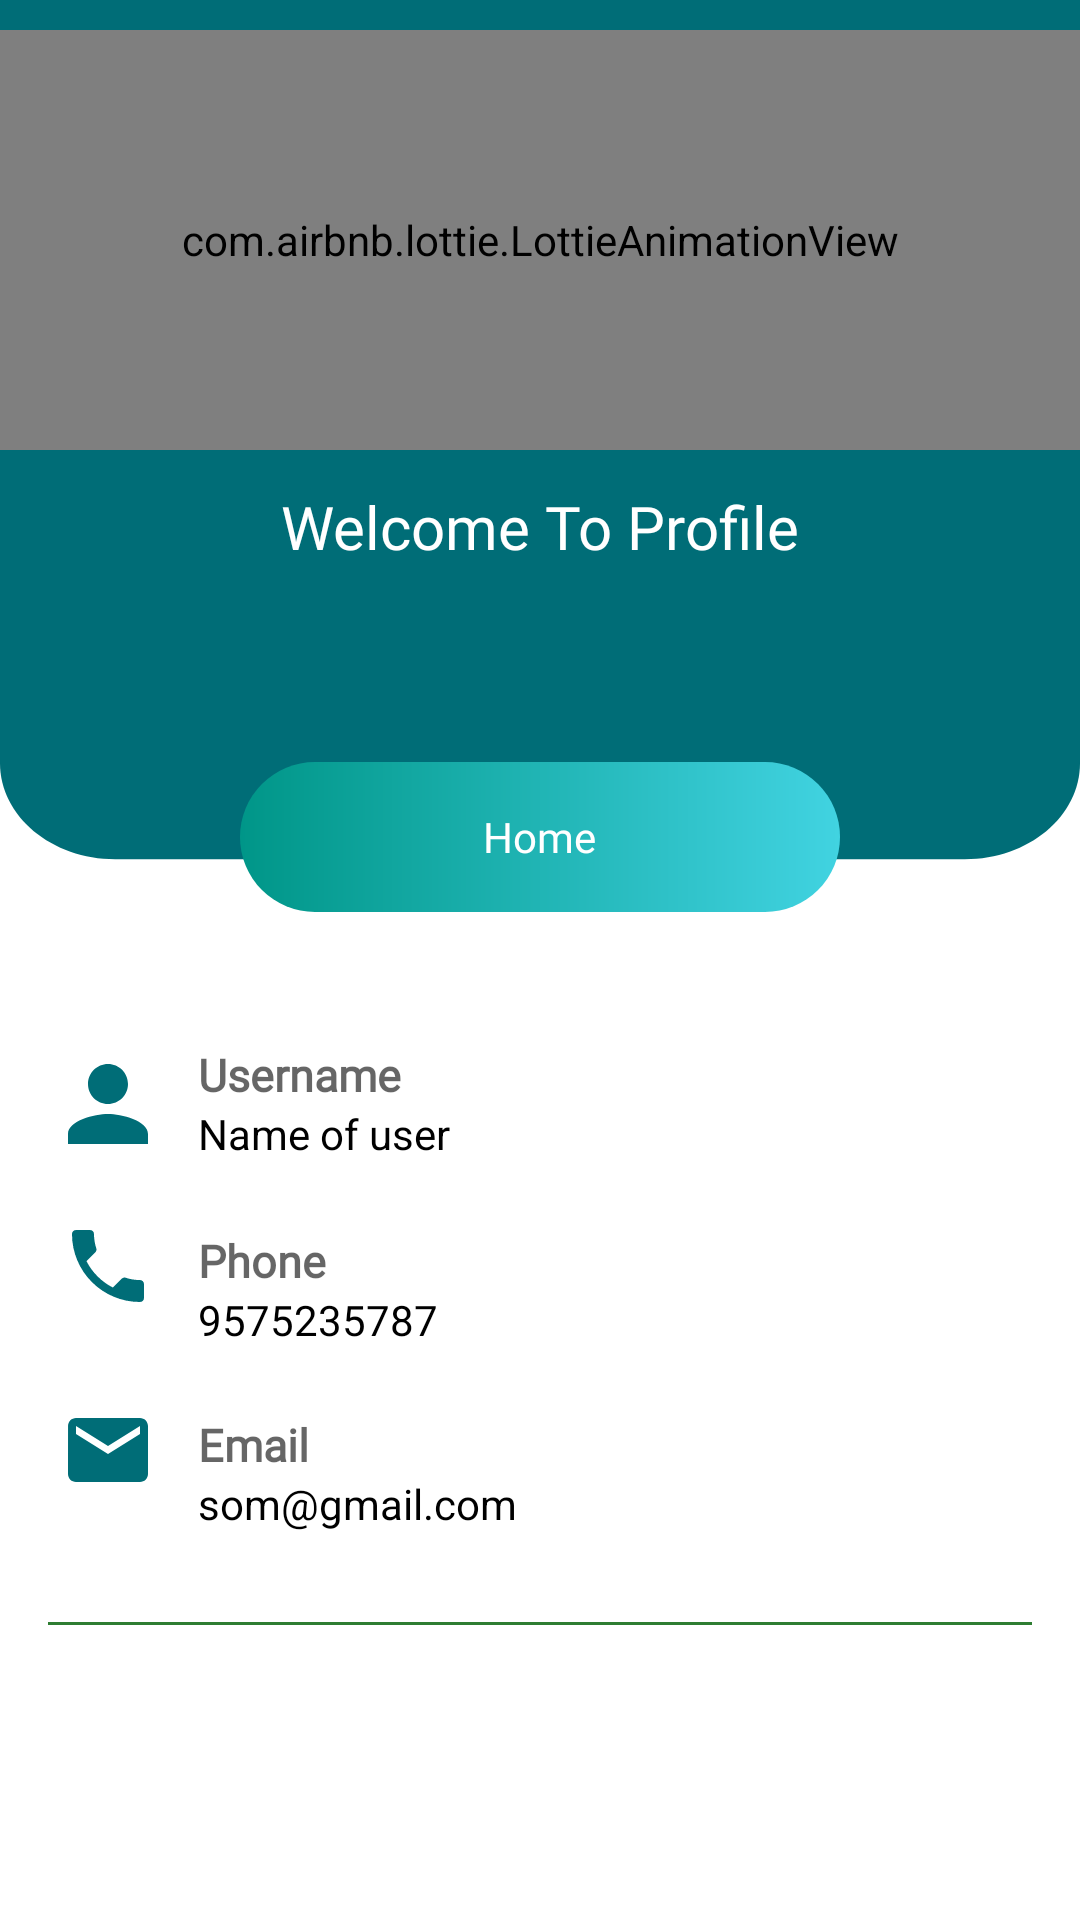

Icon click points for this 1080px x 1920px phone screenshot, format (x,y):
contact: (108,1266)
